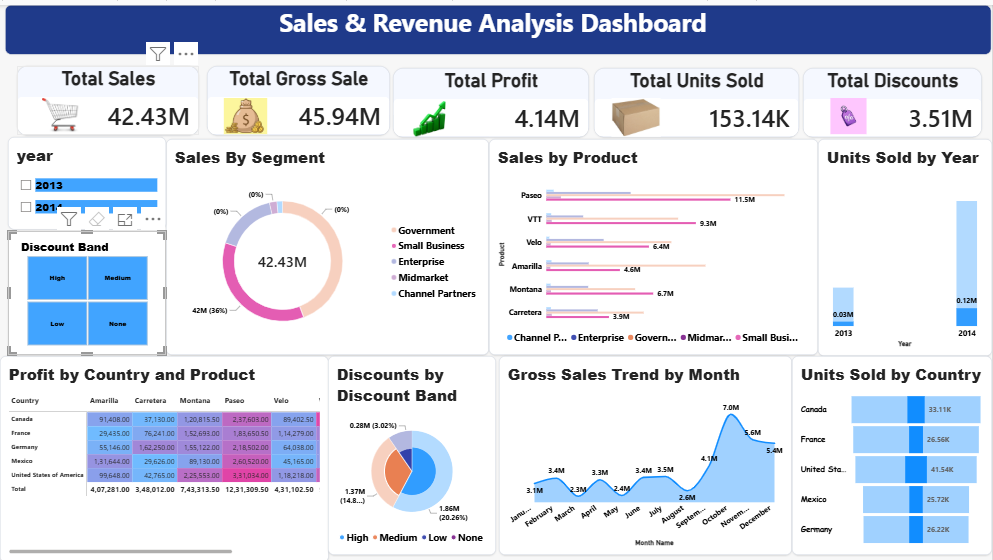

The page's visual inventory and layout, read from the dashboard file:
{"tool":"powerbi","page":{"name":"Page 1","canvas":[1920,1080],"ordinal":0},"visuals":[{"type":"textbox","box":[10.6,0,1909.1,95.7],"z":0},{"type":"cardVisual","title":"Total Sales","fields":{"Data":["Sum(financials.Sales)"]},"box":[32.9,118.1,352.3,133.5],"z":1000},{"type":"cardVisual","title":"Total Gross Sale","fields":{"Data":["Sum(financials.Gross Sales)"]},"box":[400.6,118.1,354.2,133.5],"z":2000},{"type":"cardVisual","title":"Total Profit","fields":{"Data":["Sum(financials.Profit)"]},"box":[760.6,121.9,379.4,133.5],"z":3000},{"type":"cardVisual","title":"Total Units Sold ","fields":{"Data":["Sum(financials.Units Sold)"]},"box":[1149.7,121.9,396.8,133.5],"z":4000},{"type":"cardVisual","title":"Total Discounts","fields":{"Data":["Sum(financials.Discounts)"]},"box":[1554.2,121.9,346.5,133.5],"z":5000},{"type":"image","box":[414.2,180,121.9,69.7],"z":6000},{"type":"image","box":[48.4,180,136.1,65.9],"z":7000},{"type":"image","box":[760.6,185.8,143.2,69.7],"z":8000},{"type":"image","box":[1149.7,180,162.6,75.5],"z":9000},{"type":"image","box":[1583.2,180,118.1,69.7],"z":10000},{"type":"donutChart","title":"Sales By Segment","fields":{"Category":["financials.Segment"],"Y":["Sum(financials.Sales)"]},"box":[321.3,259.4,625.2,418.1],"z":11000},{"type":"clusteredBarChart","title":"Sales by Product","fields":{"Category":["financials.Product"],"Series":["financials.Segment"],"Y":["Sum(financials.Sales)"]},"box":[946.5,259.4,636.8,416.1],"z":12000},{"type":"pivotTable","title":"Profit by Country and Product","fields":{"Columns":["financials.Product"],"Rows":["financials.Country"],"Values":["Sum(financials.Profit)"]},"box":[0,680.3,635.7,399.7],"z":13000},{"type":"columnChart","title":"Units Sold by Year","fields":{"Category":["financials.Year"],"Y":["Sum(financials.Units Sold)"]},"box":[1583.2,259.4,336.8,420],"z":14000},{"type":"pieChart","title":"Discounts by Discount Band","fields":{"Category":["financials.Discount Band"],"Y":["Sum(financials.Discounts)"]},"box":[635.7,680.3,325.3,384.8],"z":15000},{"type":"areaChart","title":"Gross Sales Trend by Month","fields":{"Category":["financials.Month Name"],"Y2":["Sum(financials.Gross Sales)"]},"box":[965.8,679.4,567.1,385.2],"z":16000},{"type":"funnel","title":"Units Sold by Country","fields":{"Category":["financials.Country"],"Y":["Sum(financials.Units Sold)"]},"box":[1532.8,680.3,386.9,384.8],"z":17000},{"type":"slicer","title":"year","fields":{"Values":["financials.Year"]},"box":[15.5,255.5,306.1,178.6],"z":18000},{"type":"slicer","fields":{"Values":["financials.Discount Band"]},"box":[15.5,437.4,305.8,240],"z":19000}]}

Visuals, with their boxes in screenshot pixels (x1, y1, x2, y2), scaled from the page's 1920x1080 canvas onto the 993x560 screenshot:
textbox: <box>5,0,992,50</box>
"Total Sales" cardVisual: <box>17,61,199,130</box>
"Total Gross Sale" cardVisual: <box>207,61,390,130</box>
"Total Profit" cardVisual: <box>393,63,590,132</box>
"Total Units Sold " cardVisual: <box>595,63,800,132</box>
"Total Discounts" cardVisual: <box>804,63,983,132</box>
image: <box>214,93,277,129</box>
image: <box>25,93,95,128</box>
image: <box>393,96,467,132</box>
image: <box>595,93,679,132</box>
image: <box>819,93,880,129</box>
"Sales By Segment" donutChart: <box>166,135,490,351</box>
"Sales by Product" clusteredBarChart: <box>490,135,819,350</box>
"Profit by Country and Product" pivotTable: <box>0,353,329,559</box>
"Units Sold by Year" columnChart: <box>819,135,992,352</box>
"Discounts by Discount Band" pieChart: <box>329,353,497,552</box>
"Gross Sales Trend by Month" areaChart: <box>499,352,793,552</box>
"Units Sold by Country" funnel: <box>793,353,992,552</box>
"year" slicer: <box>8,132,166,225</box>
slicer - financials.Discount Band: <box>8,227,166,351</box>
